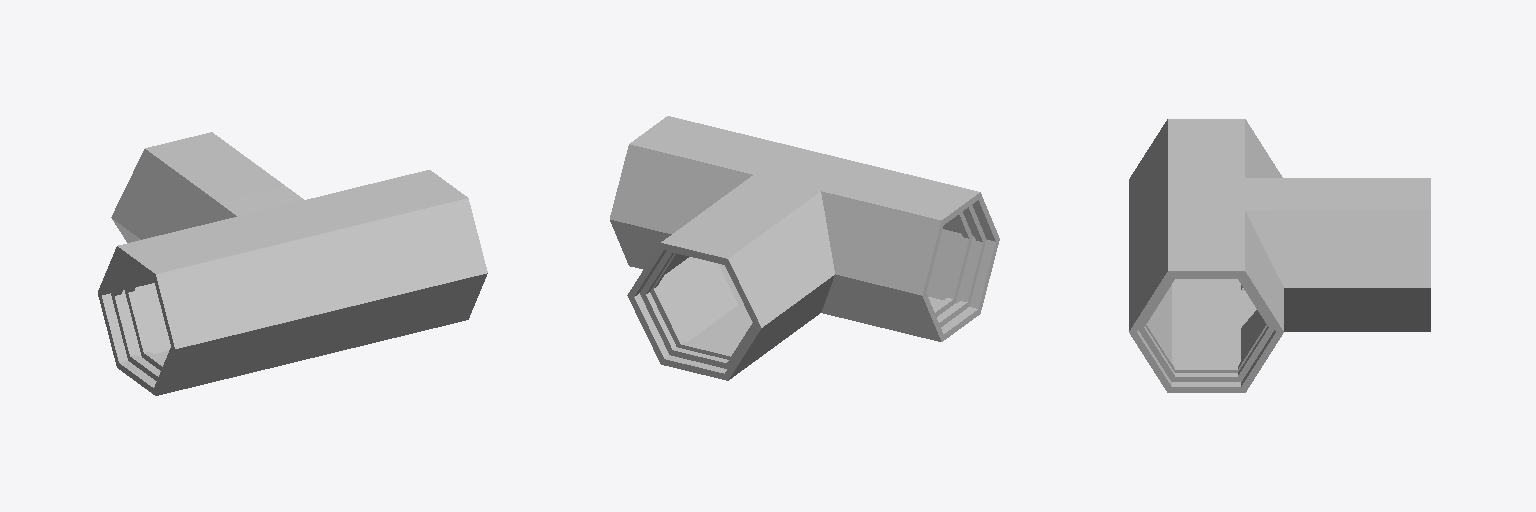
The model's file is Pasillo3.obj.
3 views of the same model, side by side, from view 1: azimuth 30°, elevation 25°; view 2: azimuth 150°, elevation 25°; view 3: azimuth 270°, elevation 25° (orthographic).
Visible parts, largest first — view 1: corridor_triangle_Cylinder.002; view 2: corridor_triangle_Cylinder.002; view 3: corridor_triangle_Cylinder.002.
Boxes of the visible parts, x1,y1,x2,y2 form: corridor_triangle_Cylinder.002: [98, 132, 487, 395]; corridor_triangle_Cylinder.002: [610, 116, 999, 380]; corridor_triangle_Cylinder.002: [1129, 119, 1430, 392].
Bounding box in the file's own units: 20.5 × 7.64 × 17.16.